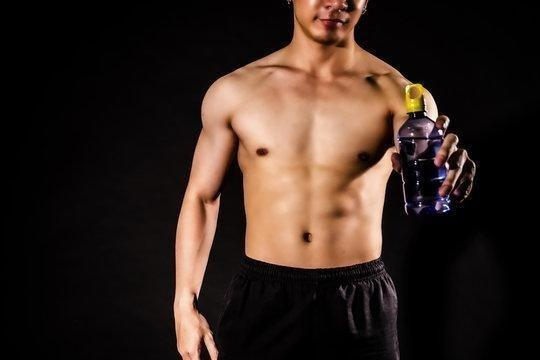gym bottle: (396, 81, 453, 217)
